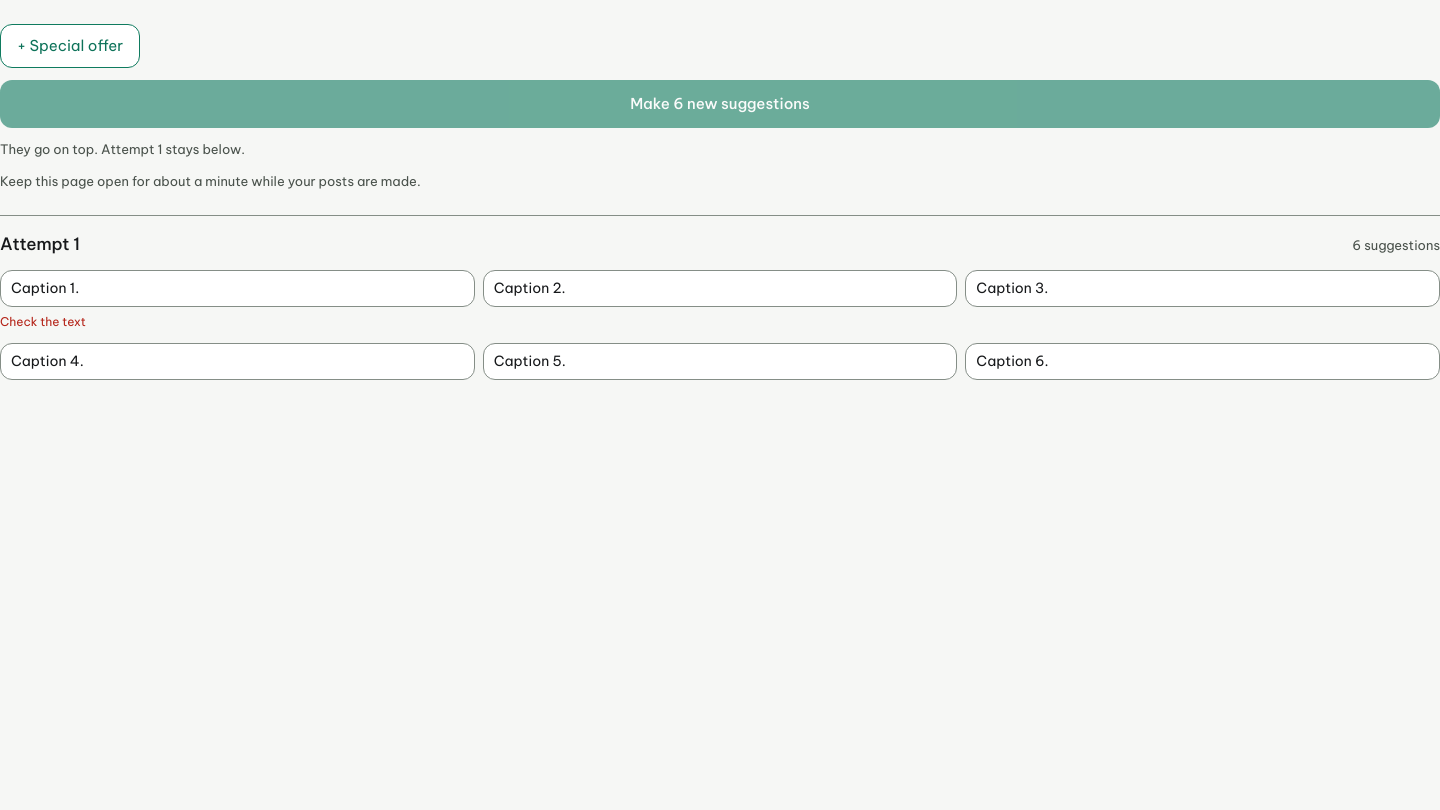
Test case: the story text › a story text's price shows on its tile and in its part
Step 1. Click the button "Caption 1. Check the text" → (237, 300), box top-left (0, 270), bottom-right (475, 331)
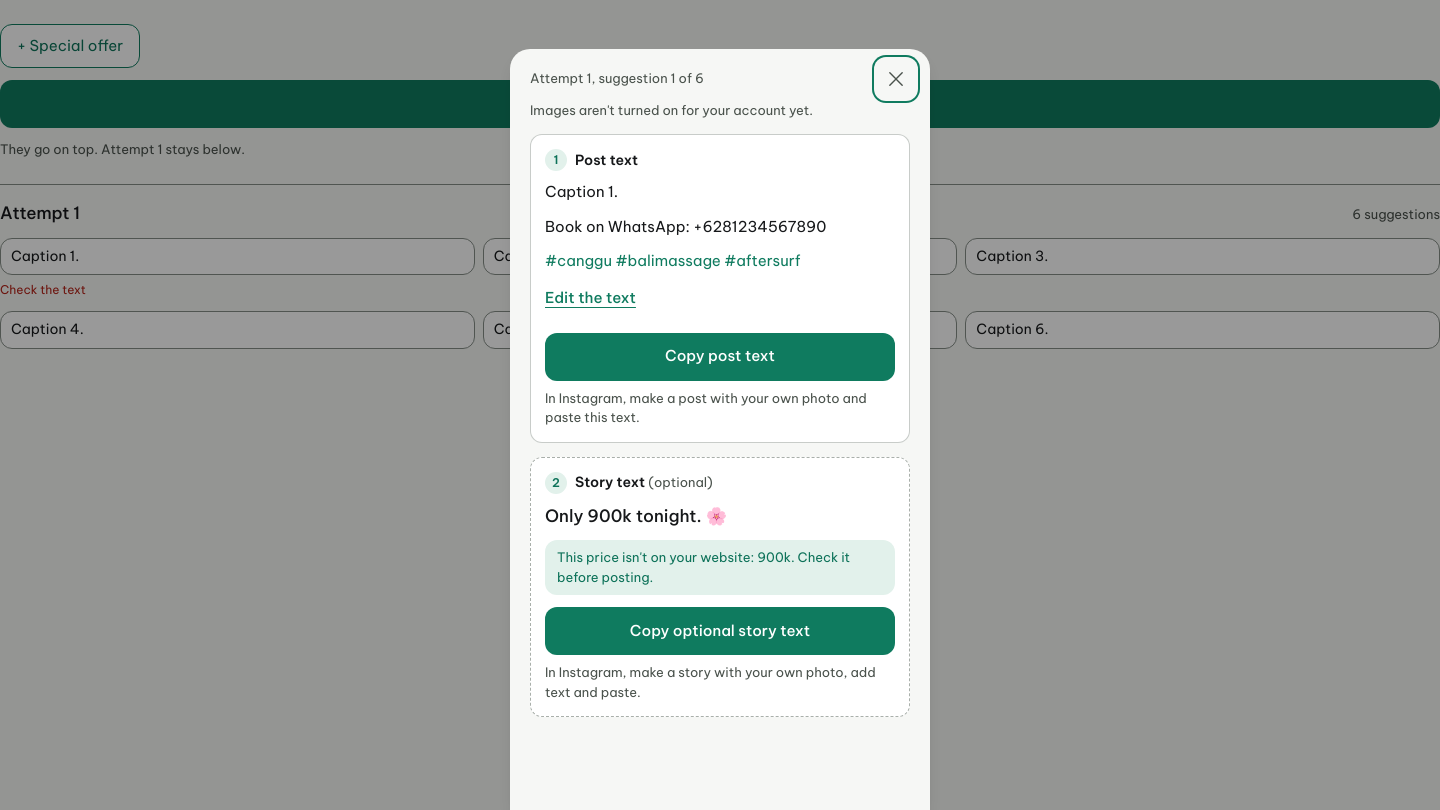
expect the text "900k" is shown: met, box top-left (557, 549), bottom-right (850, 585)
